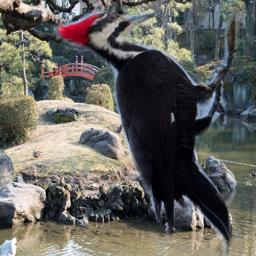Woodpecker: (54, 10, 241, 255)
